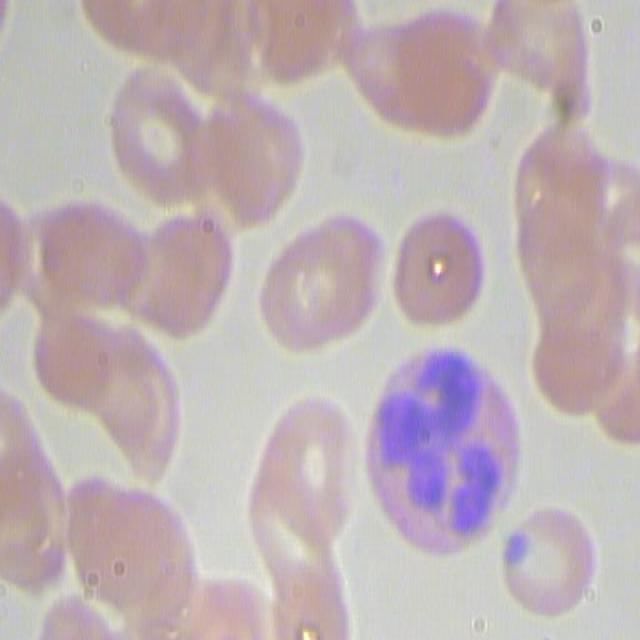RBC: (523, 127, 640, 439), (58, 478, 213, 639), (349, 10, 496, 144), (246, 382, 354, 562), (259, 211, 387, 358), (183, 88, 299, 234), (197, 0, 351, 103), (104, 61, 210, 209), (476, 2, 600, 122), (0, 385, 70, 594), (32, 185, 146, 312), (97, 325, 186, 485), (496, 493, 601, 619), (126, 215, 234, 335), (392, 208, 488, 331), (29, 286, 117, 417), (1, 190, 38, 323)
WBC: (371, 358, 519, 540)
